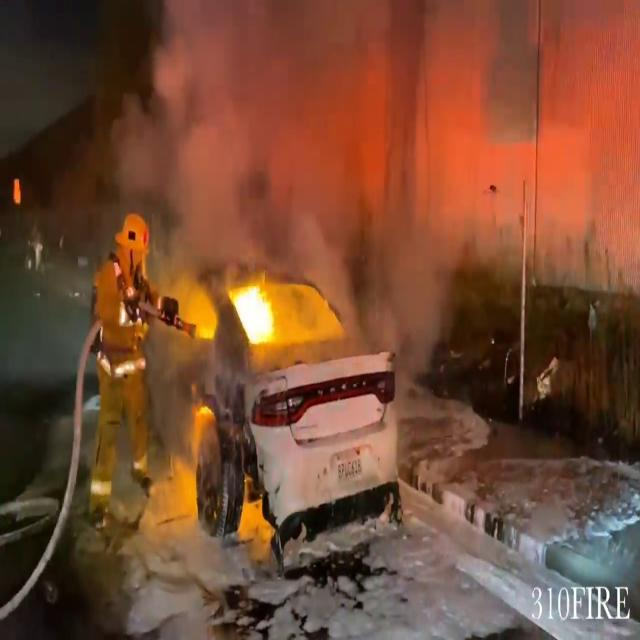Fire: (224, 275, 286, 349)
Smoke: (114, 0, 639, 317)
